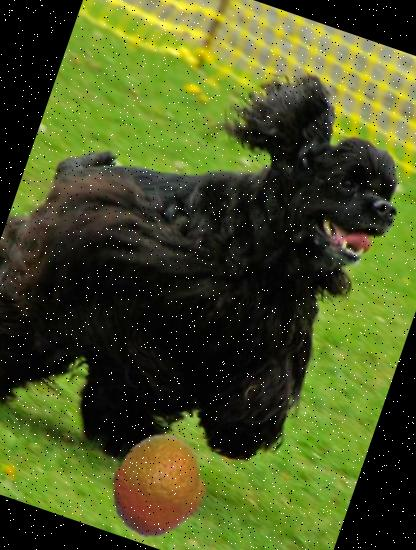Mandarine: (92, 419, 225, 550)
